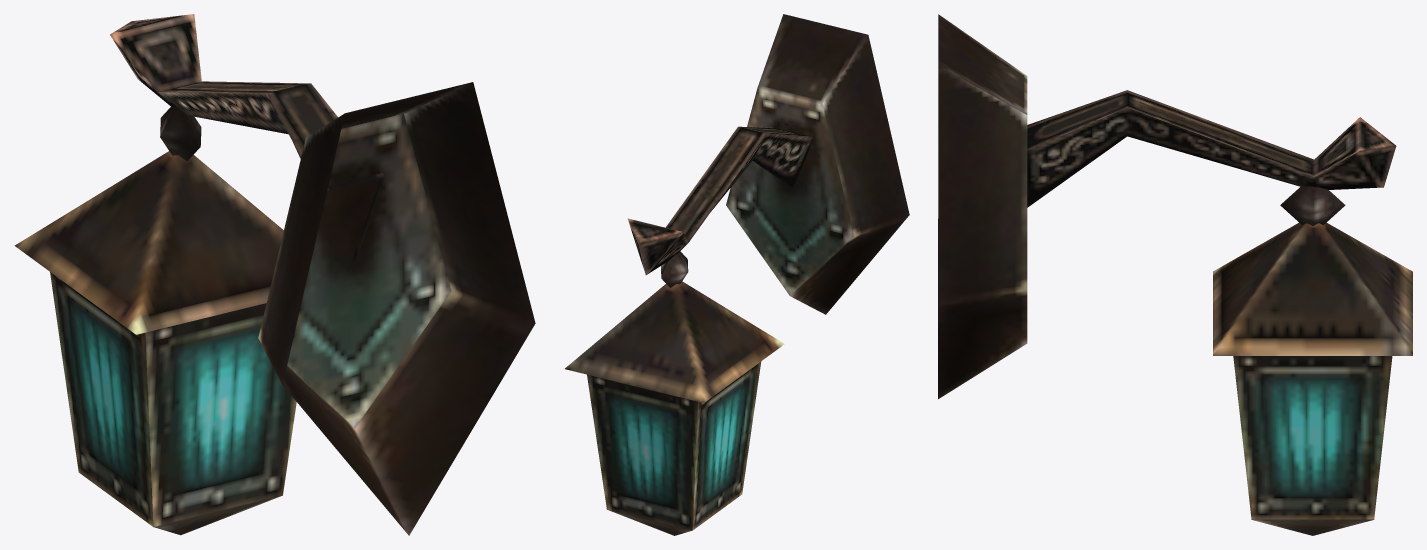
Rendered from loc2_34.glb.
The picture shows the model from 3 angles, left to right: view 1: azimuth 30°, elevation 25°; view 2: azimuth 150°, elevation 25°; view 3: azimuth 270°, elevation 25°; orthographic projection. The views are drawn at different scales.
Parts seen in each view (by area): view 1: loc2_34; view 2: loc2_34; view 3: loc2_34.
Part boxes in pixels (<box>): loc2_34: <box>14,14,535,535</box>; loc2_34: <box>565,14,909,535</box>; loc2_34: <box>938,14,1412,535</box>.
Size of the model in its own units: 0.6143 by 1.4 by 1.22.
1 material, 1 textured.
